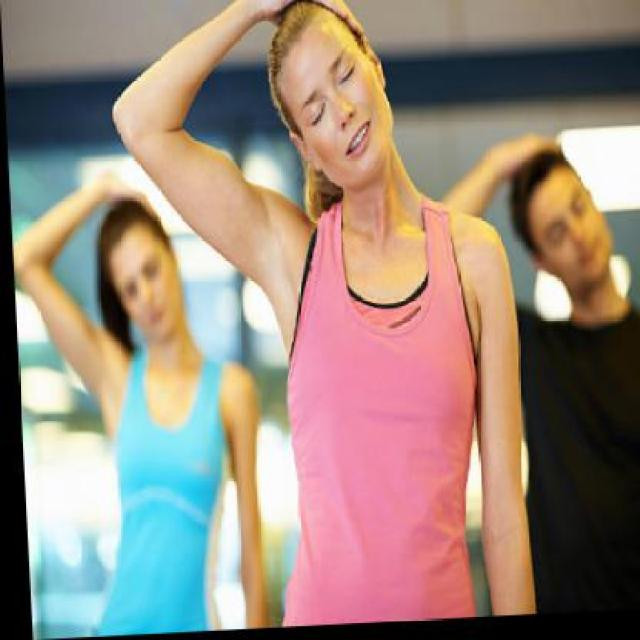Healthy: (348, 192, 417, 234)
